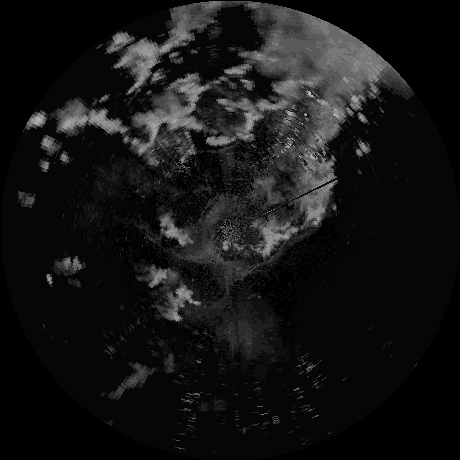frontgust: (145, 231, 187, 258), (257, 240, 287, 267), (199, 141, 239, 153)
